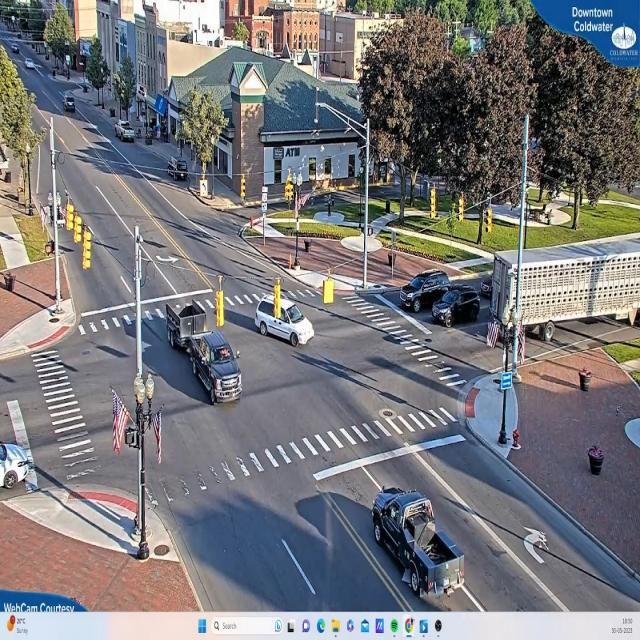car: (372, 486, 467, 602), (186, 331, 243, 405), (257, 301, 314, 347), (401, 271, 454, 314), (432, 286, 483, 328), (0, 442, 39, 488), (117, 122, 137, 145)
